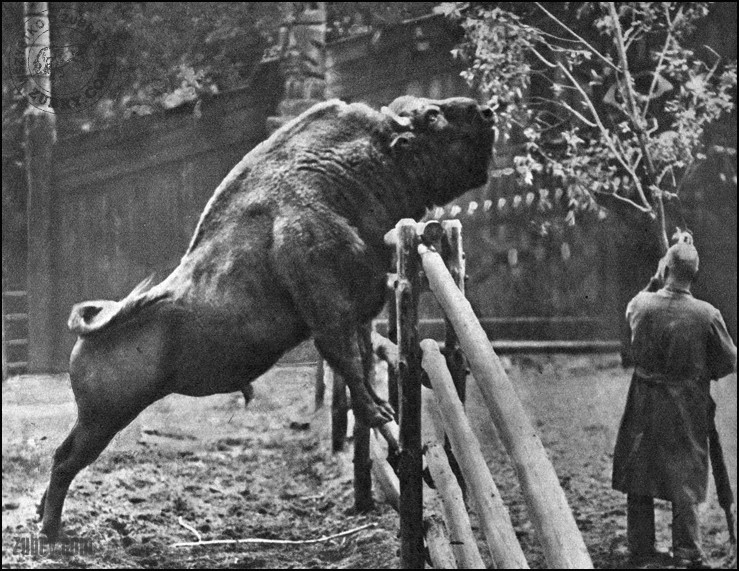zubr: (20, 41, 528, 529)
